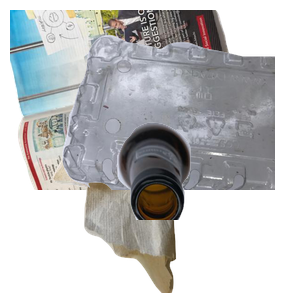glass: (115, 120, 300, 300)
paper: (10, 10, 250, 190)
plastic: (60, 32, 300, 212)
trash: (50, 120, 219, 300)
